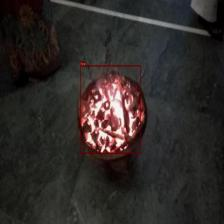fire: (80, 65, 141, 153)
